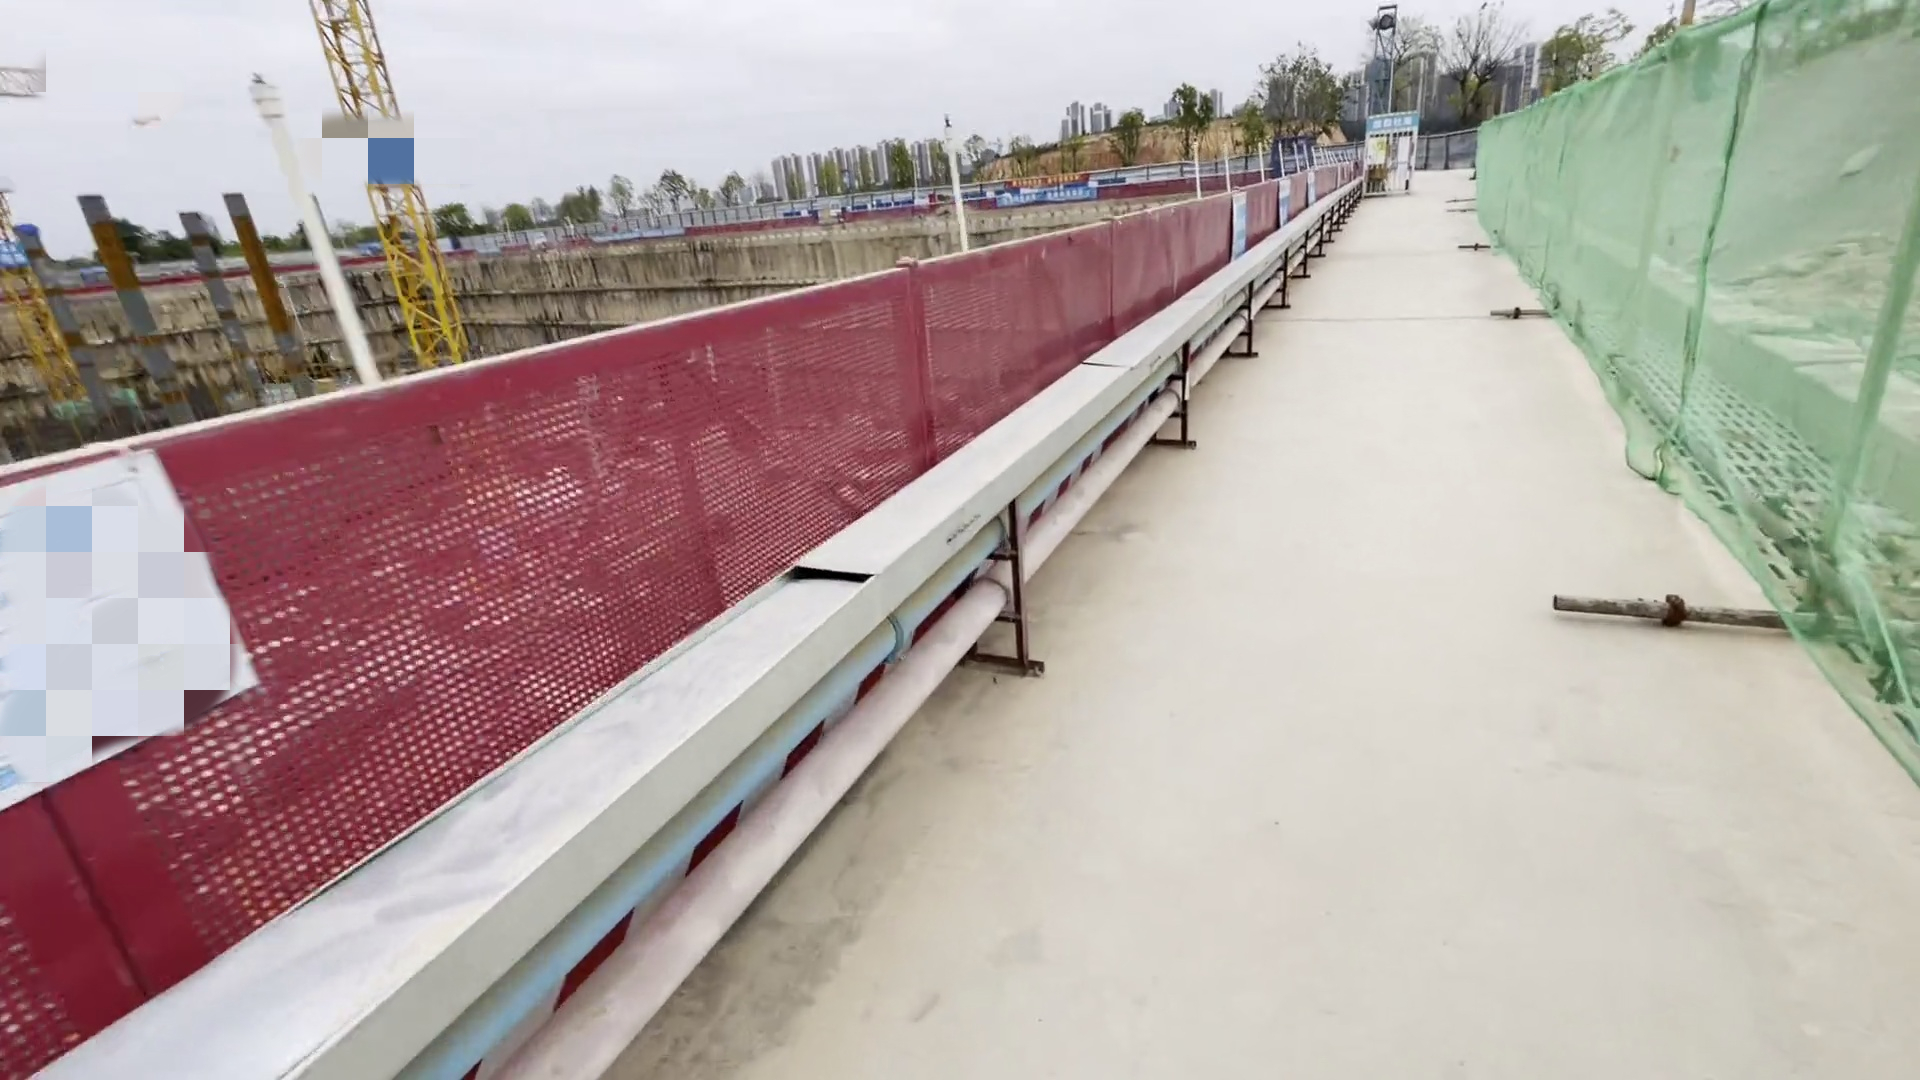fence: (1, 160, 1370, 1080)
slogan: (1373, 109, 1414, 128)
